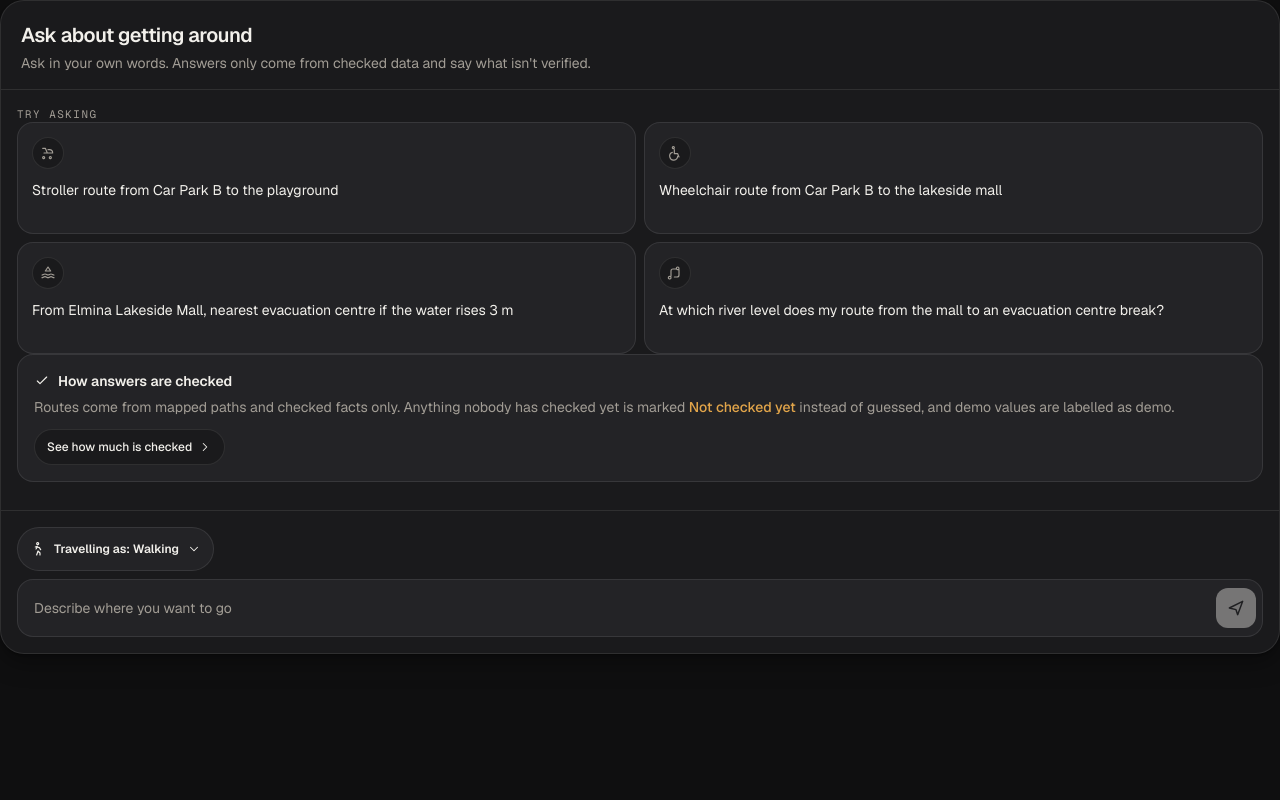
Test: AssistantPanel › resident mode shows a Travelling-as chip that changes the shared profile
The width and height of the screenshot is (1280, 800).
Click the button "Travelling as: Walking": [116, 549] box [17, 527, 214, 571]
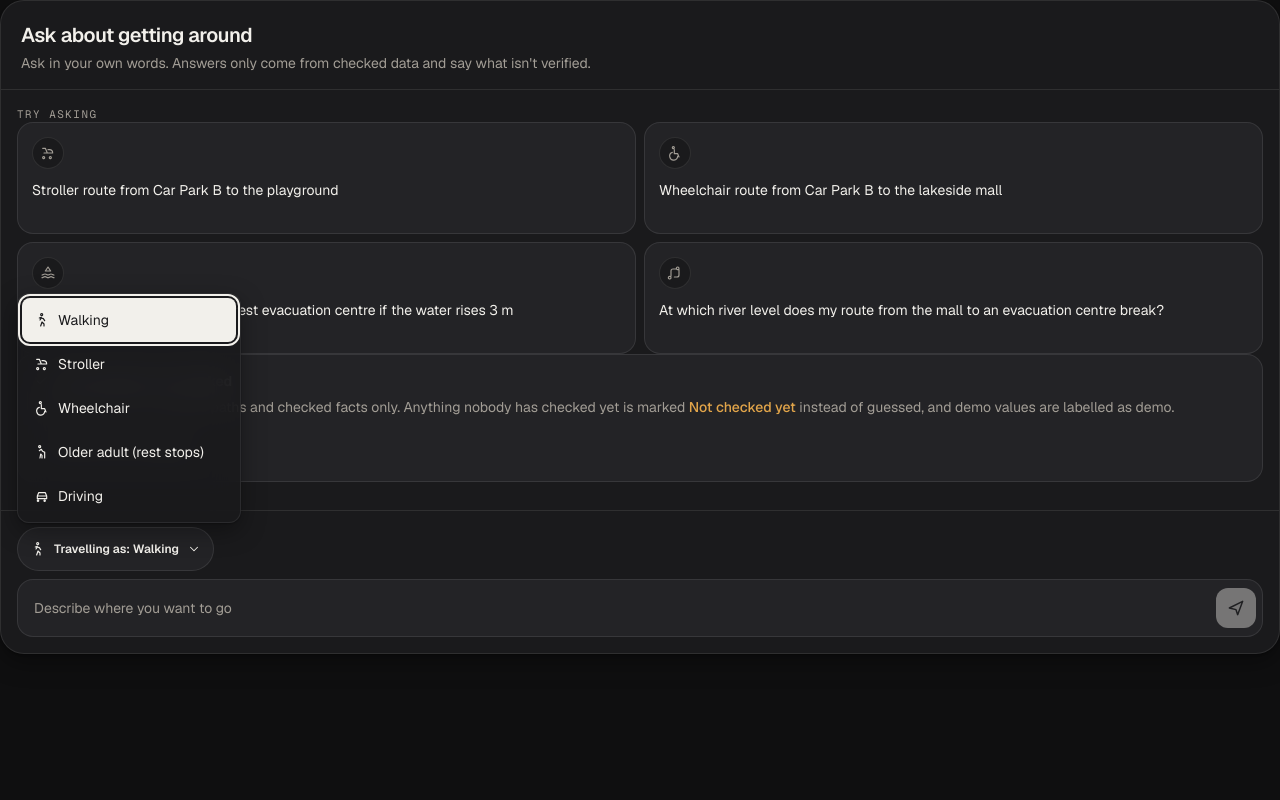
Click the option "Wheelchair": [82, 408] box [34, 399, 130, 417]
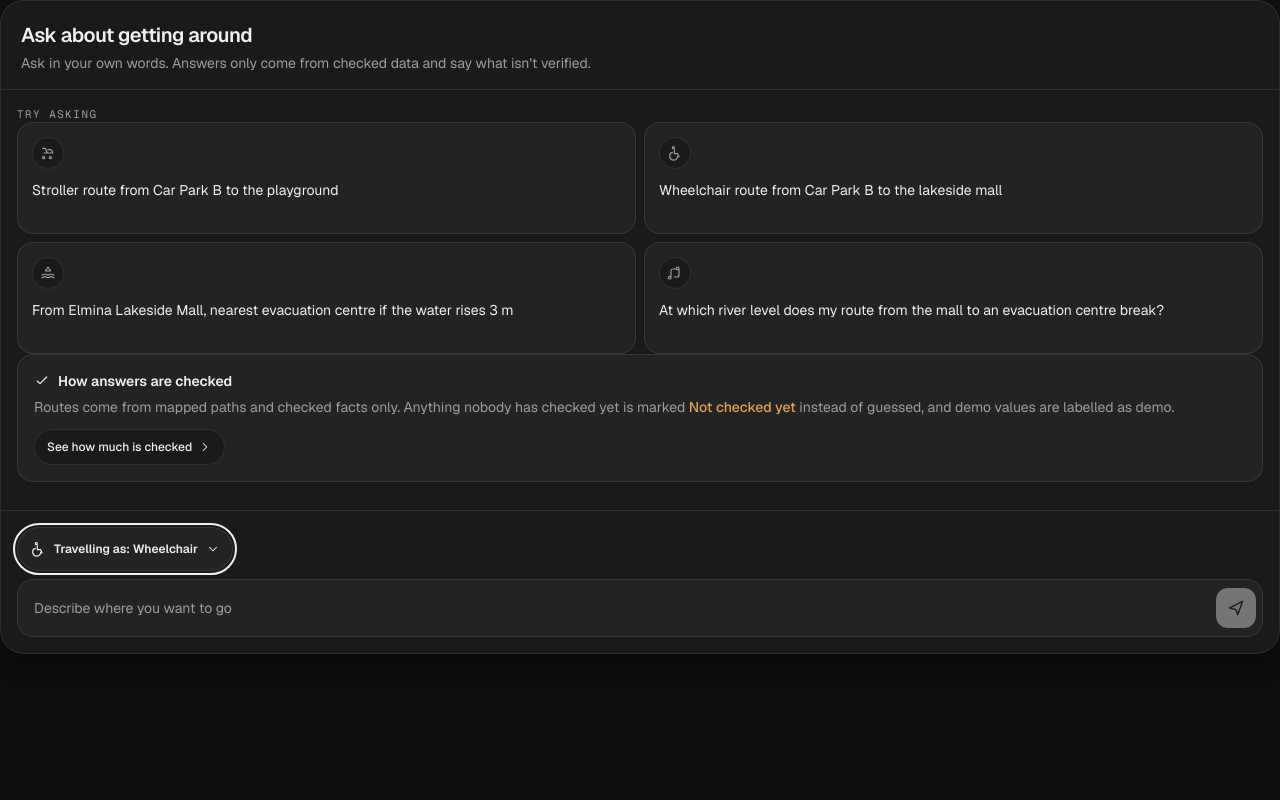
Result: the button "Travelling as: Wheelchair" is shown at [17, 527, 233, 571]
